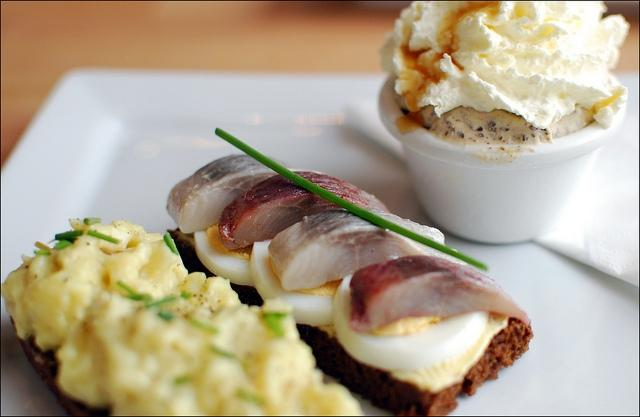green onion: (215, 127, 487, 272), (262, 312, 289, 338), (87, 229, 120, 244), (235, 388, 261, 406), (210, 342, 236, 359), (163, 232, 180, 256), (116, 280, 140, 296), (146, 297, 176, 308), (55, 230, 84, 241), (122, 294, 152, 303)
